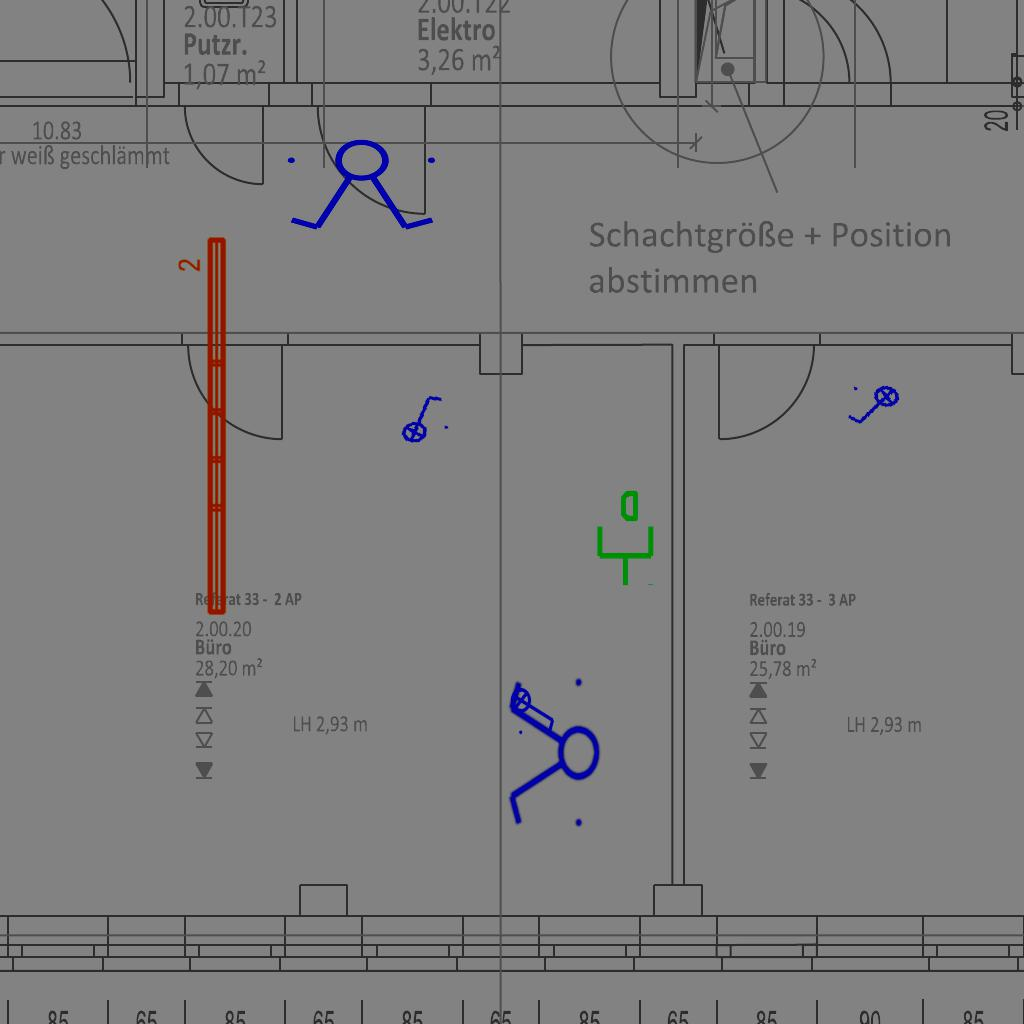Ambulanz_Pendelleuchte_LED: (176, 233, 232, 620)
Ausschalter_beleuchtet: (842, 376, 908, 438), (389, 389, 453, 447), (510, 681, 558, 737)
Datenanschluss_einfach: (589, 488, 658, 588)
Serienschalter: (505, 670, 601, 838), (279, 138, 447, 234)
